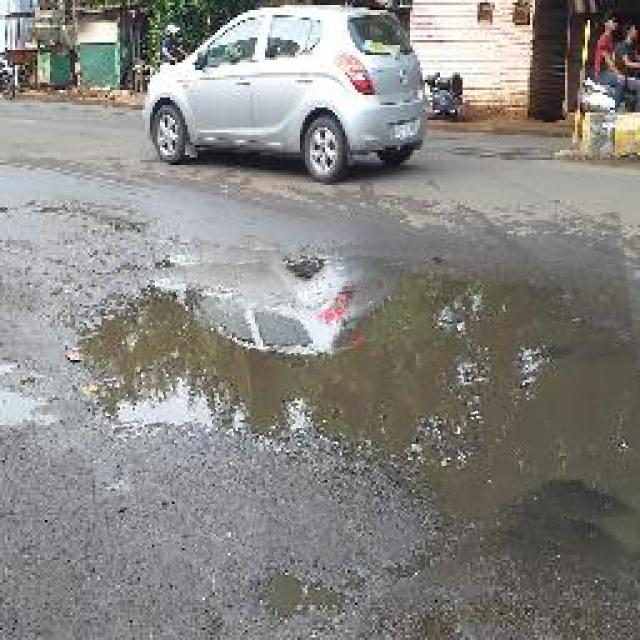puddle: (79, 228, 640, 564)
